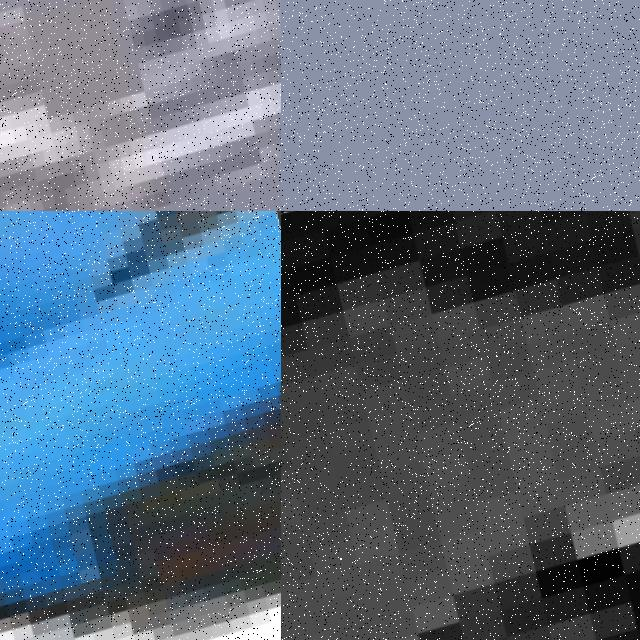0: (0, 0, 281, 211)
drone: (281, 211, 640, 640), (0, 211, 281, 640)
